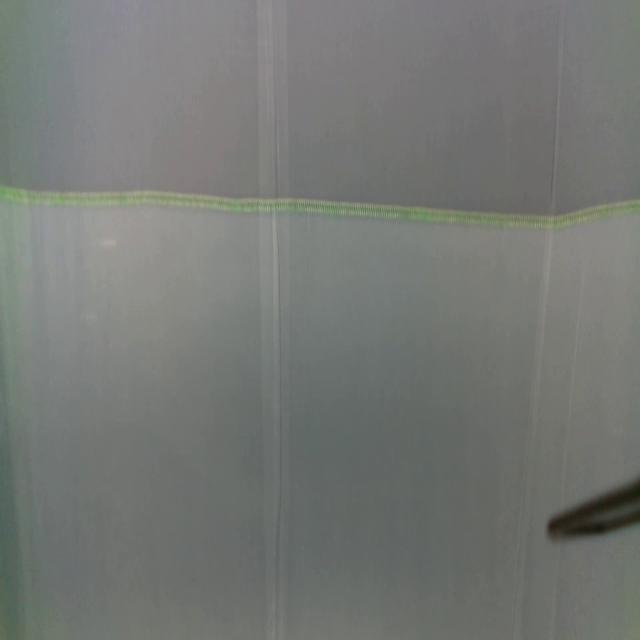crease: (255, 0, 293, 640), (508, 323, 544, 632), (540, 0, 566, 313), (558, 279, 586, 507)
